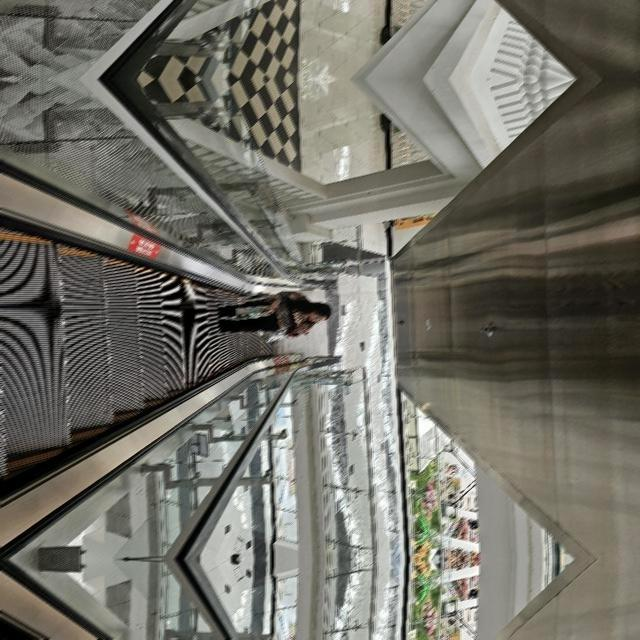door: (161, 81, 639, 640), (161, 401, 639, 640), (161, 0, 639, 79)
person: (372, 388, 420, 502), (372, 618, 420, 640)
stair: (309, 401, 560, 640), (309, 443, 560, 640)
